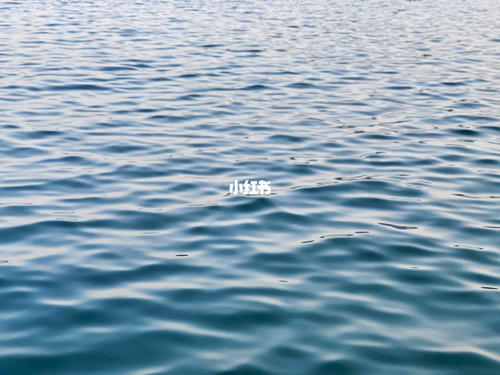sea_river: (9, 25, 483, 200)
